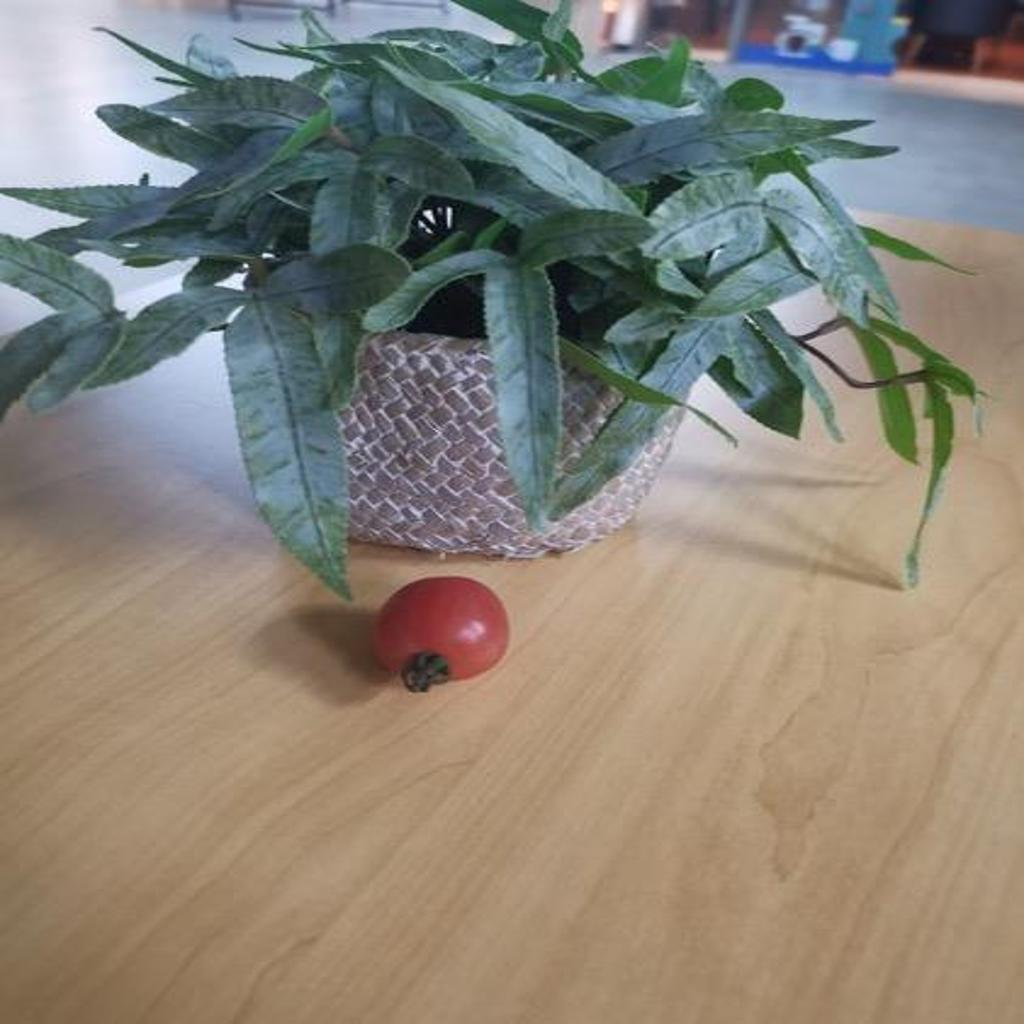tomato: (369, 579, 517, 686)
